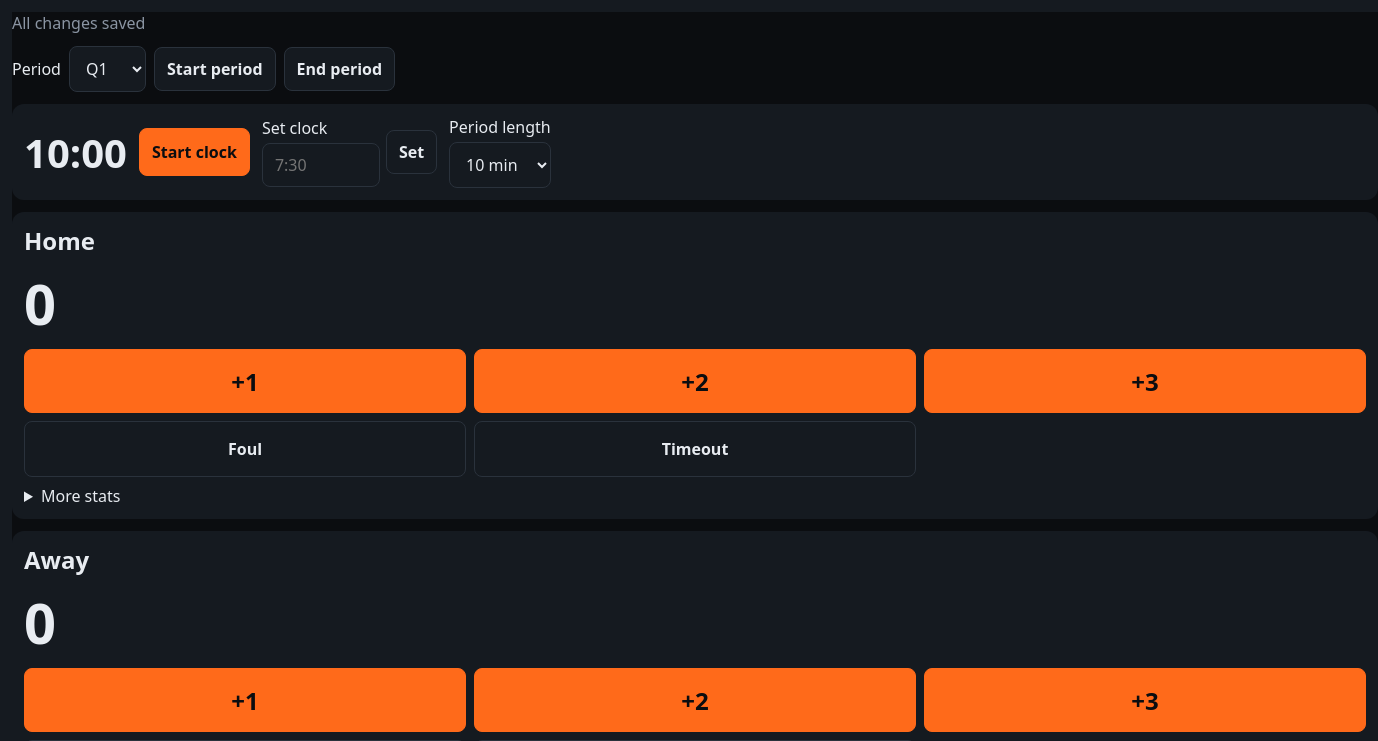
Test: ScorePanel › shows the score immediately and explains the offline state with a pending count
What coordinates should you click on to do the following:
click the button named "Home +3 points"
I would click on:
 (1145, 381)
Its box is [924,349,1366,413].
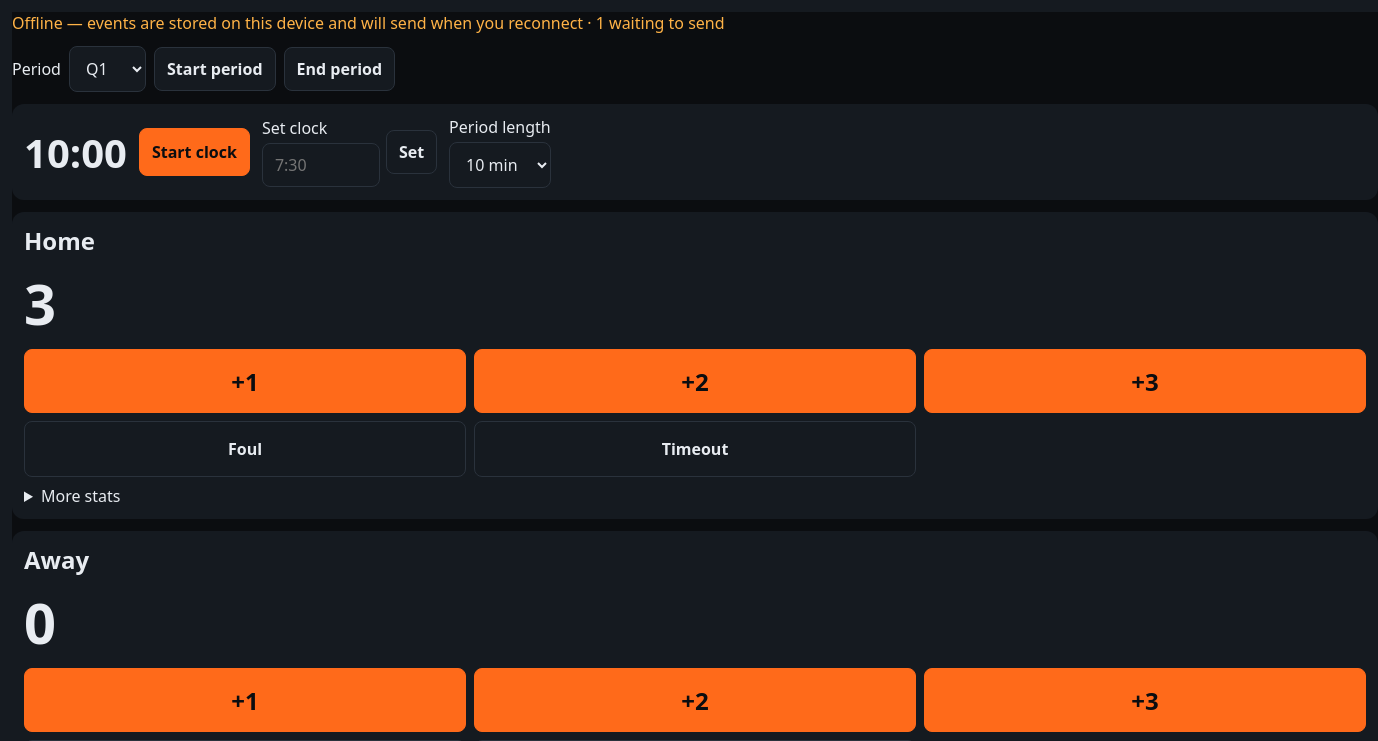
Expected: the element labelled "Home" shows "3", [24,265,56,341]
Expected: the message shows "Offline", [12,12,583,34]
Expected: the message shows "1 waiting to send", [583,12,724,34]
